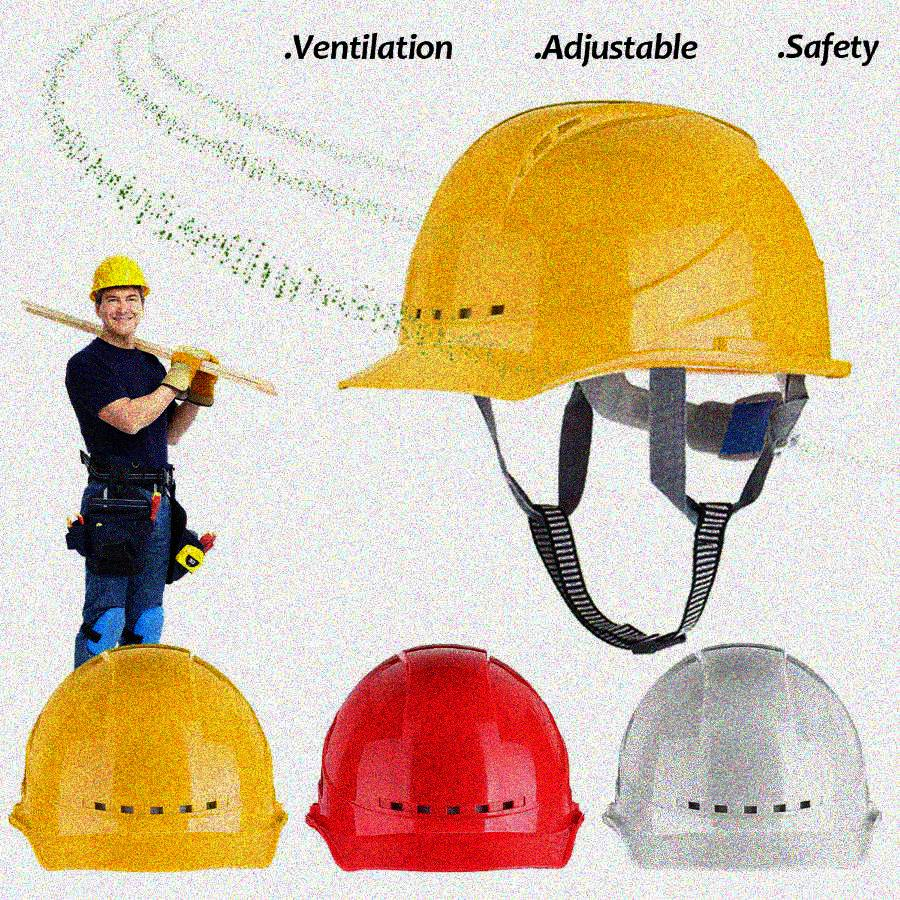helmet: (91, 251, 153, 336)
